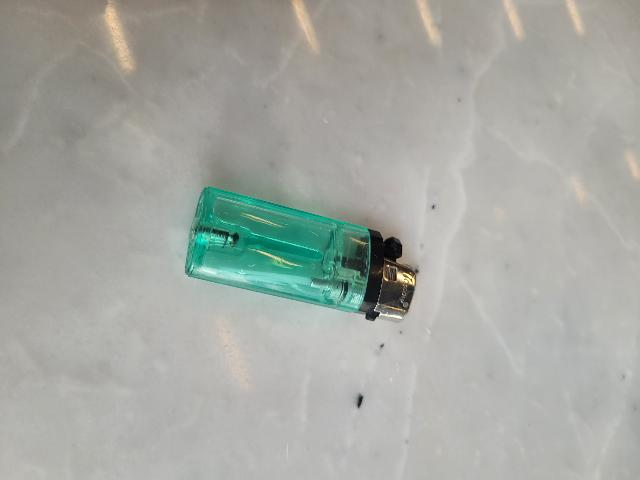Plastik: (177, 185, 424, 343)
